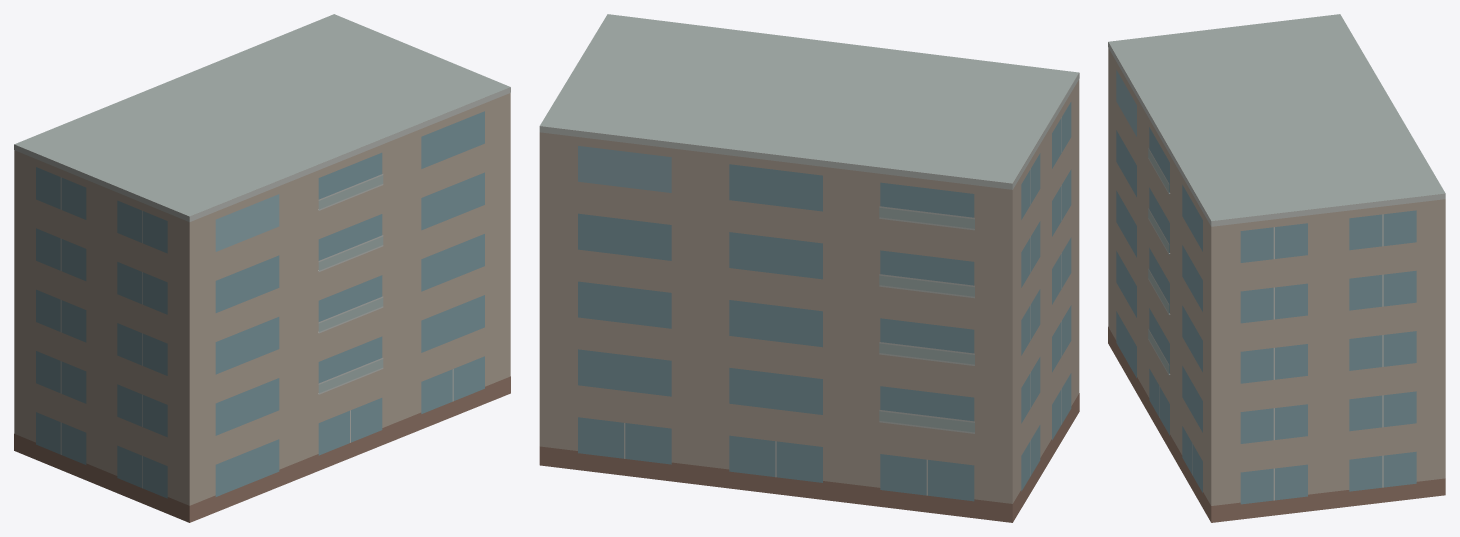
File: survey-upis-32579560.glb
3 views of the same model, side by side, from view 1: azimuth 30°, elevation 25°; view 2: azimuth 150°, elevation 25°; view 3: azimuth 270°, elevation 25° (orthographic). The views are drawn at different scales.
Visible parts, largest first — view 1: survey-upis-32579560.tmp; view 2: survey-upis-32579560.tmp; view 3: survey-upis-32579560.tmp.
Part boxes in pixels (box(x1,y1,x2,y2)): survey-upis-32579560.tmp: box(14, 14, 510, 522); survey-upis-32579560.tmp: box(539, 14, 1079, 522); survey-upis-32579560.tmp: box(1108, 14, 1445, 522).
Bounding box in the file's own units: 19.38 × 13.15 × 13.34.
